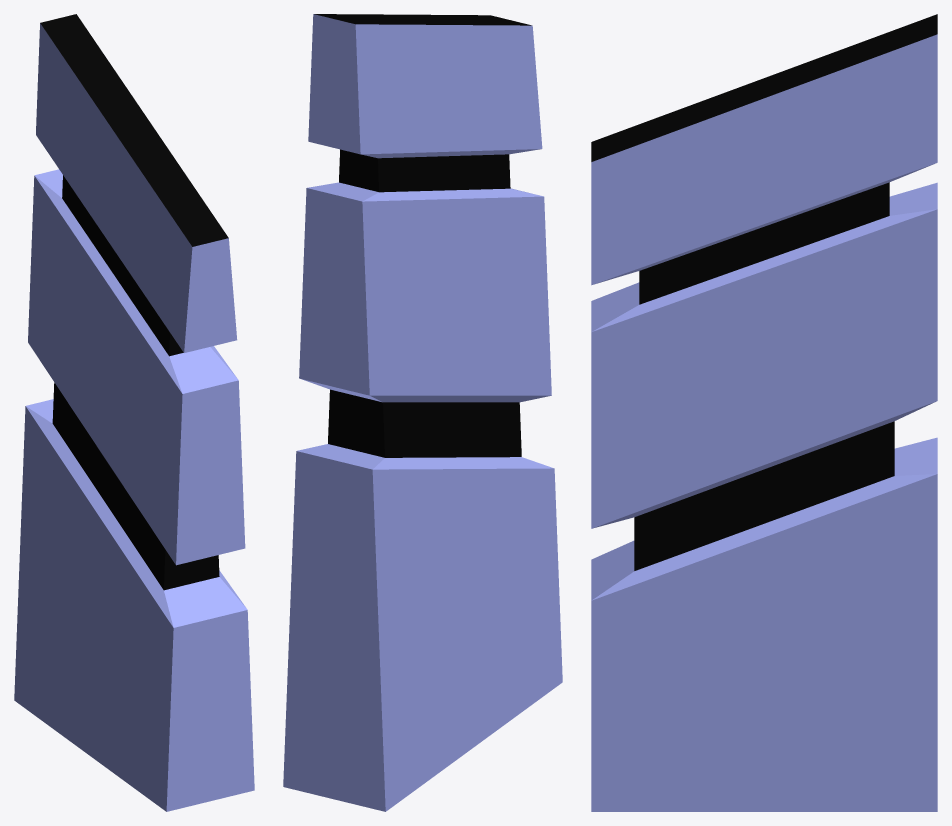
Rendered from shopChecker.fbx.
3 renders of one model, left to right at view 1: azimuth 30°, elevation 25°; view 2: azimuth 150°, elevation 25°; view 3: azimuth 270°, elevation 25°, orthographic. The views are drawn at different scales.
Visible parts, largest first — view 1: ExitChecker.004; view 2: ExitChecker.004; view 3: ExitChecker.004.
Part boxes in pixels (box(x1,y1,x2,y2)): ExitChecker.004: box(14, 14, 254, 811); ExitChecker.004: box(283, 14, 562, 811); ExitChecker.004: box(591, 14, 937, 811).
Size of the model in its own units: 0.0882 by 0.6413 by 0.2638.
